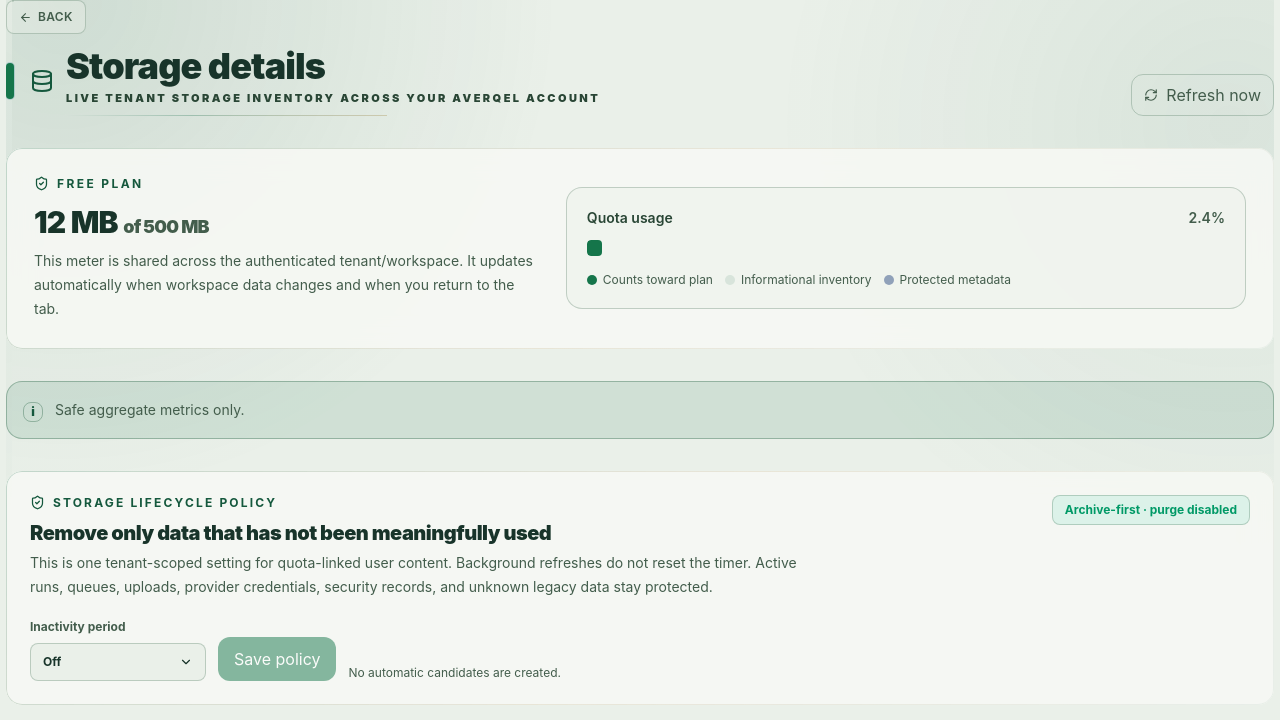
Test: storage details page › shows the safe storage inactivity policy choices
Expected: the text "Archive-first · purge disabled" is shown, left=1052, top=494, right=1250, bottom=524
What coordinates should you click on to do the following:
click the dropdown named "Inactivity period"
I would click on:
 (118, 662)
Its box is left=30, top=642, right=206, bottom=680.
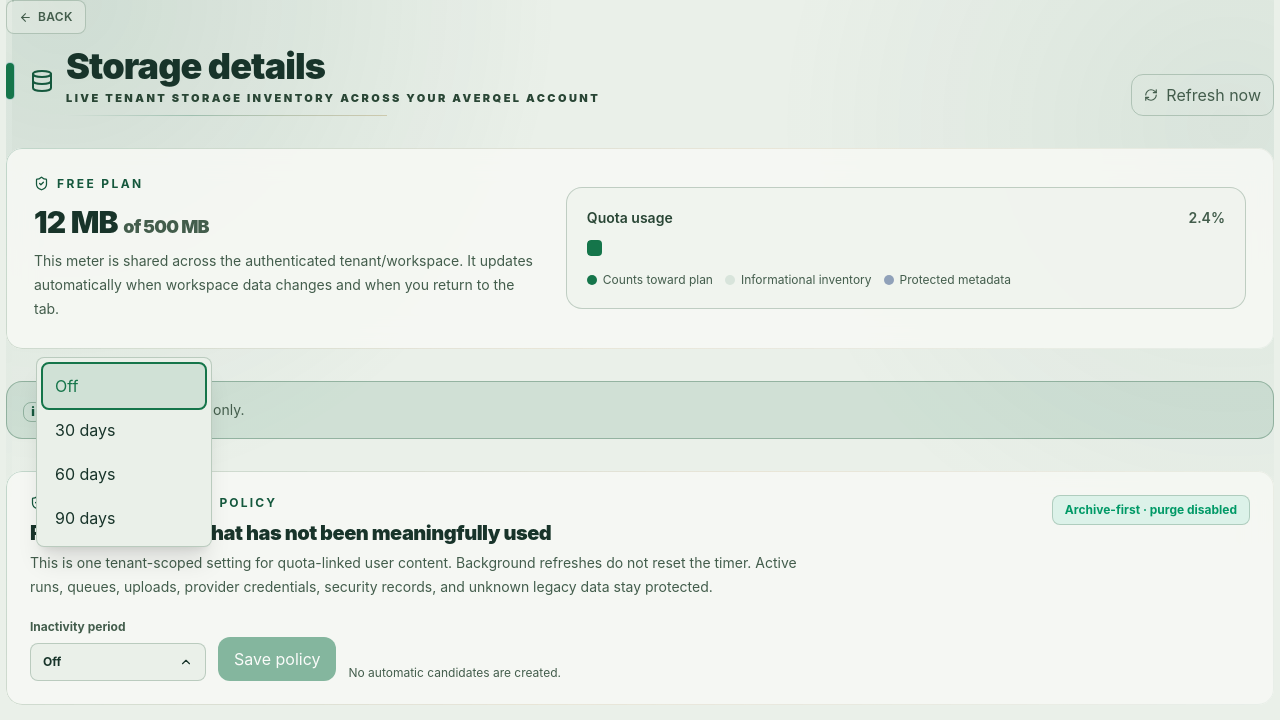
Result: the option "Off" is shown at left=43, top=364, right=205, bottom=408
Result: the option "30 days" is shown at left=43, top=408, right=205, bottom=452
Result: the option "60 days" is shown at left=43, top=452, right=205, bottom=496
